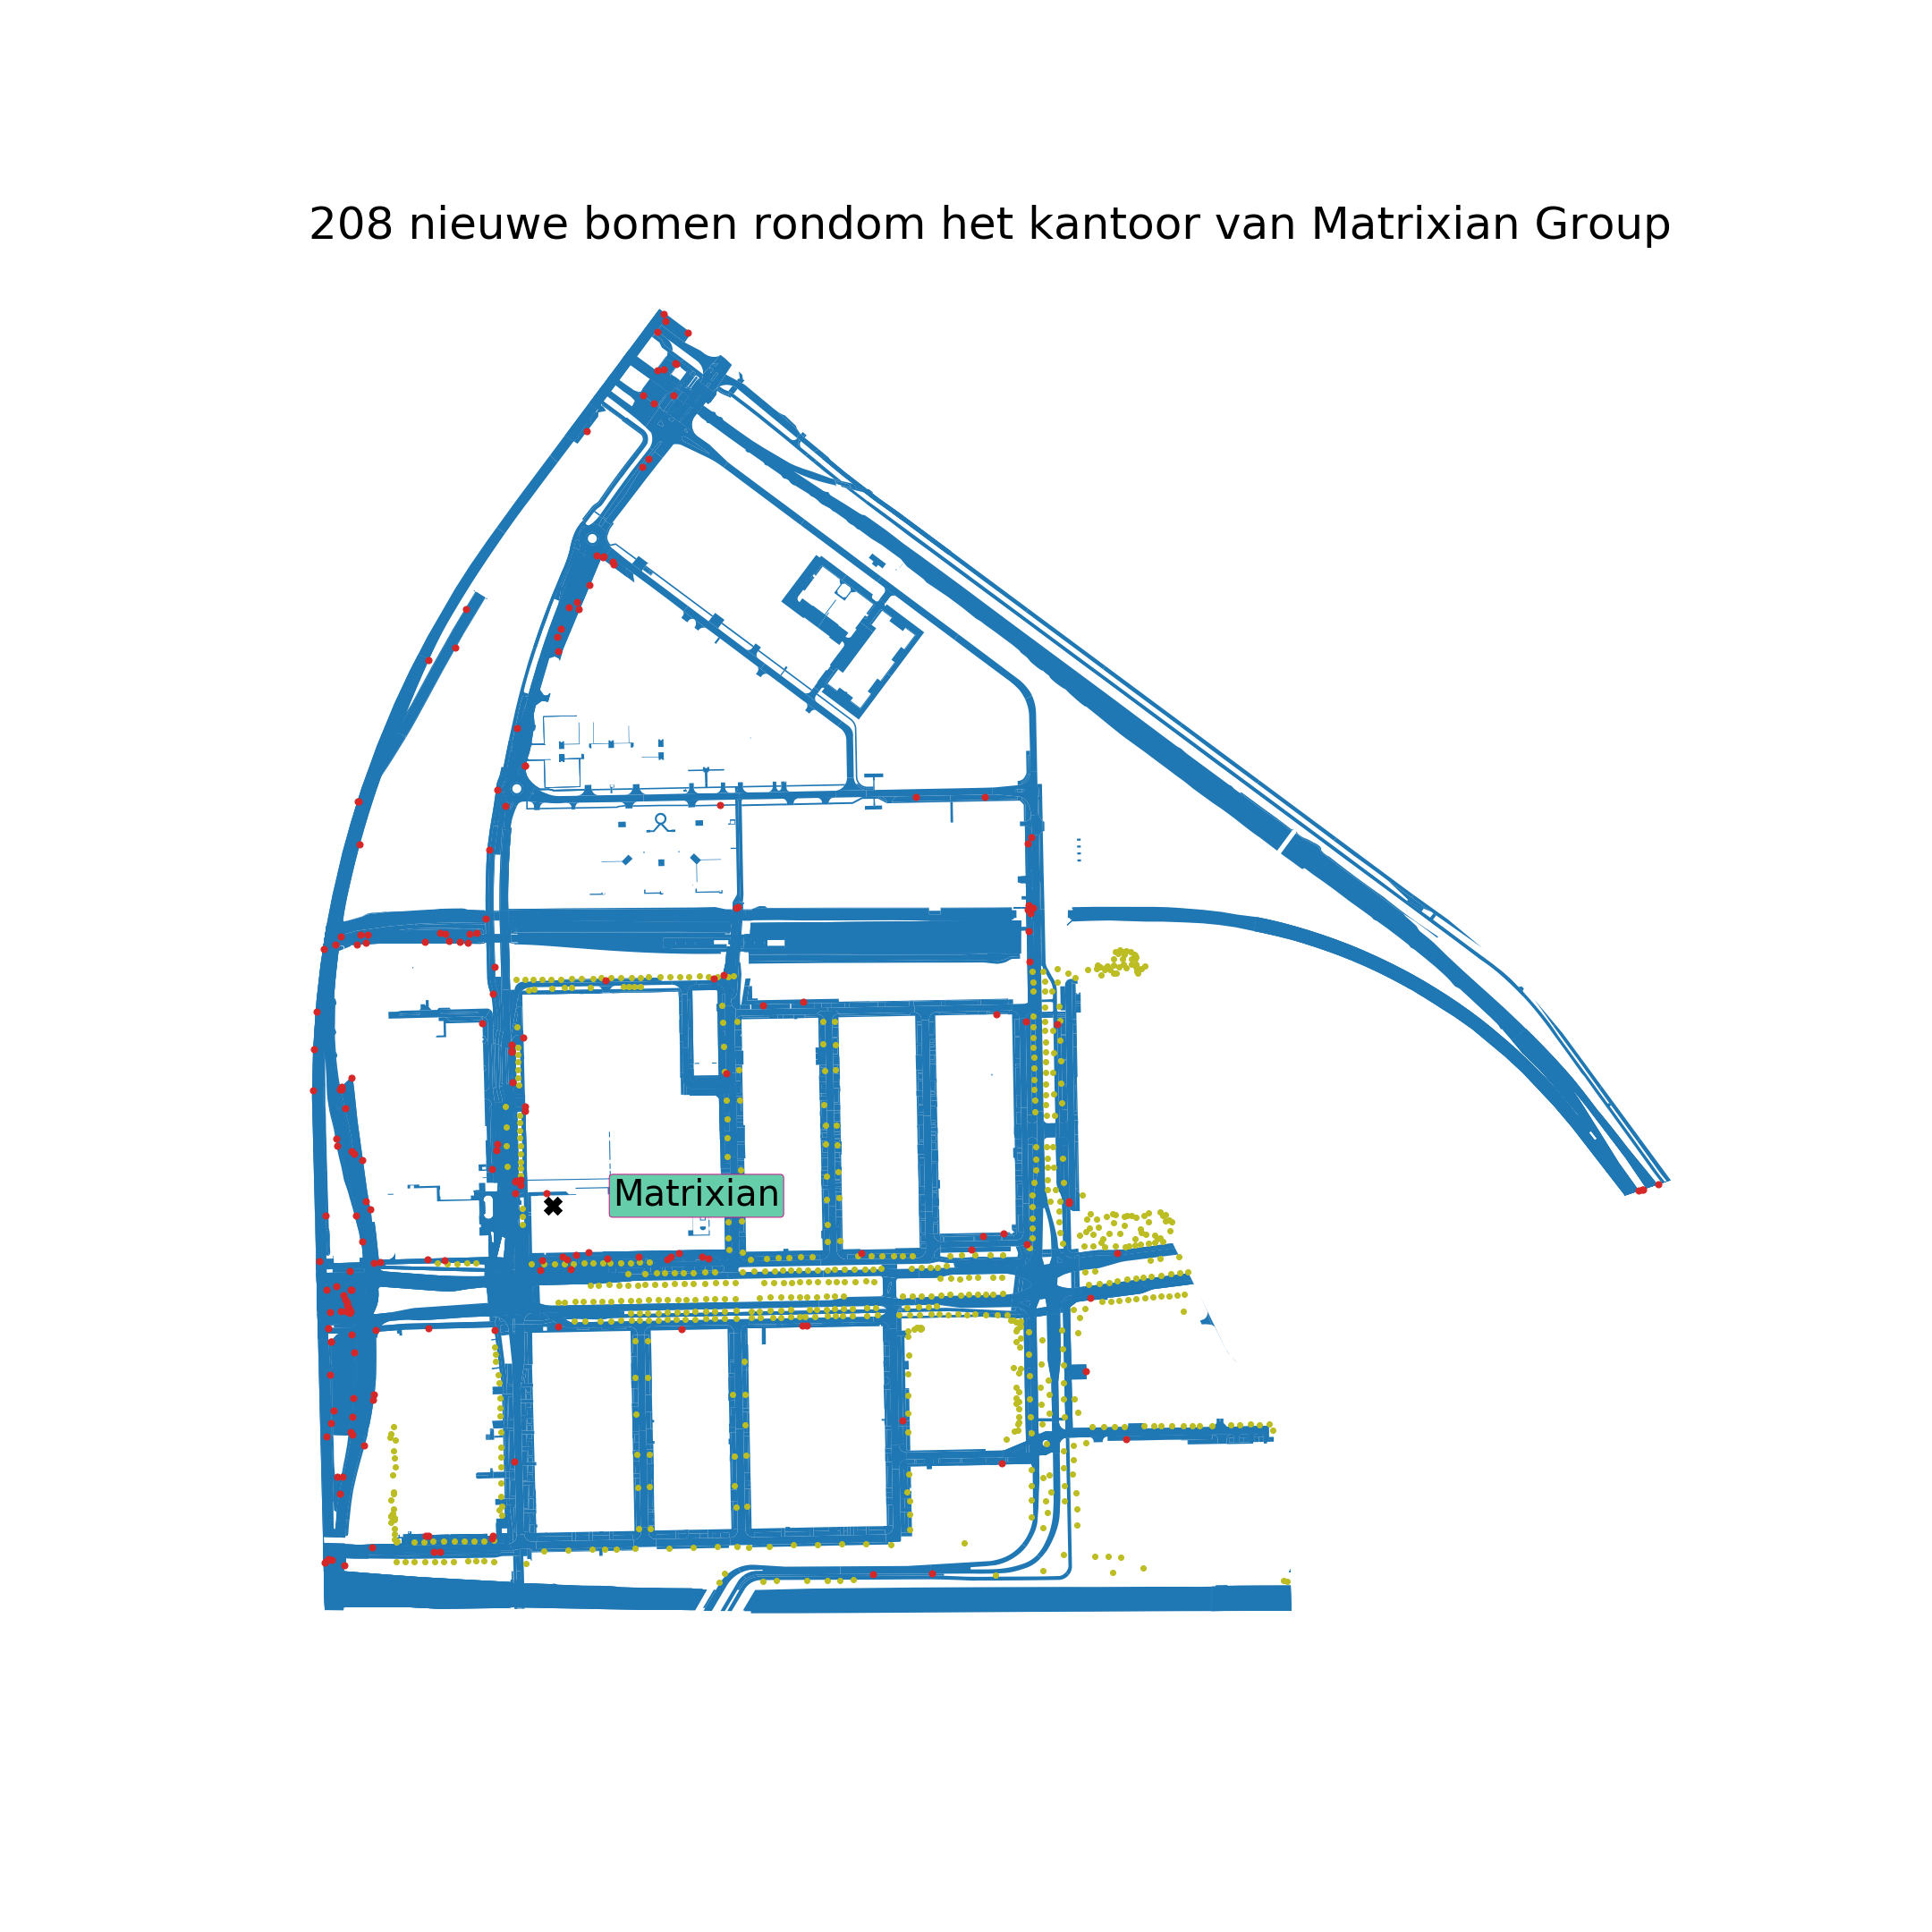

The page's visual inventory and layout, read from the dashboard file:
{"tool":"tableau","page":{"name":"Dashboard 1","canvas":[1000,1000],"units":"permille","ordinal":0},"visuals":[{"type":"worksheet","title":"pt","mark":"Line","rows":["0"],"cols":["tiny_forest_area"],"box":[10,14.6,980,970.9]},{"type":"legend","title":"pt","param":"[federated.0cbgzb50fwx32t0zqqtpc04w2hoo].[none:Calculation_1052153505004306432:n","box":[810.5,71,139.7,306]}]}

Visuals, with their boxes on the dashboard's canvas, which has no fixed pixel size, in thousandths of its width and height (x1, y1, x2, y2). These are canvas units, not pixel positions in the 1932x1932 screenshot, which may show the page scaled, cropped or inside an application window:
"pt" worksheet (Line marks): rect(10, 15, 990, 986)
"pt" legend: rect(810, 71, 950, 377)
